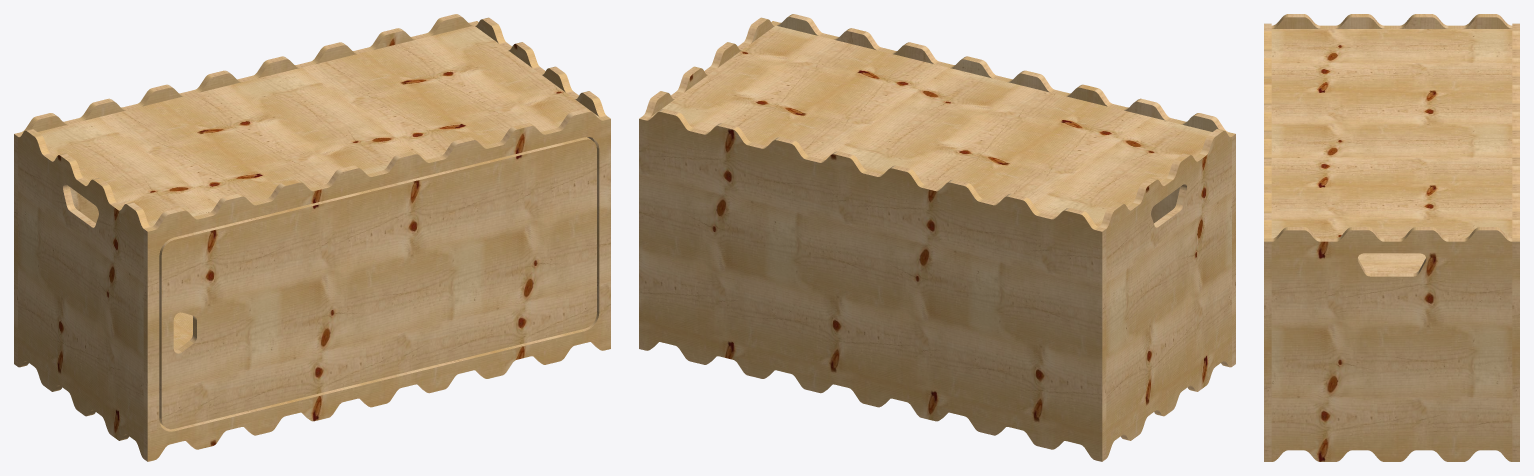
File: one_two_center_scale.glb
3 renders of one model, left to right at view 1: azimuth 30°, elevation 25°; view 2: azimuth 150°, elevation 25°; view 3: azimuth 270°, elevation 25°, orthographic. The views are drawn at different scales.
Visible parts, largest first — view 1: one_two.center.scale; view 2: one_two.center.scale; view 3: one_two.center.scale.
Boxes of the visible parts, left/top/right/bottom form: one_two.center.scale: left=14, top=14, right=610, bottom=461; one_two.center.scale: left=639, top=14, right=1235, bottom=461; one_two.center.scale: left=1264, top=14, right=1519, bottom=461.
Bounding box in the file's own units: 1 × 0.5 × 0.5.
1 material, 1 textured.
